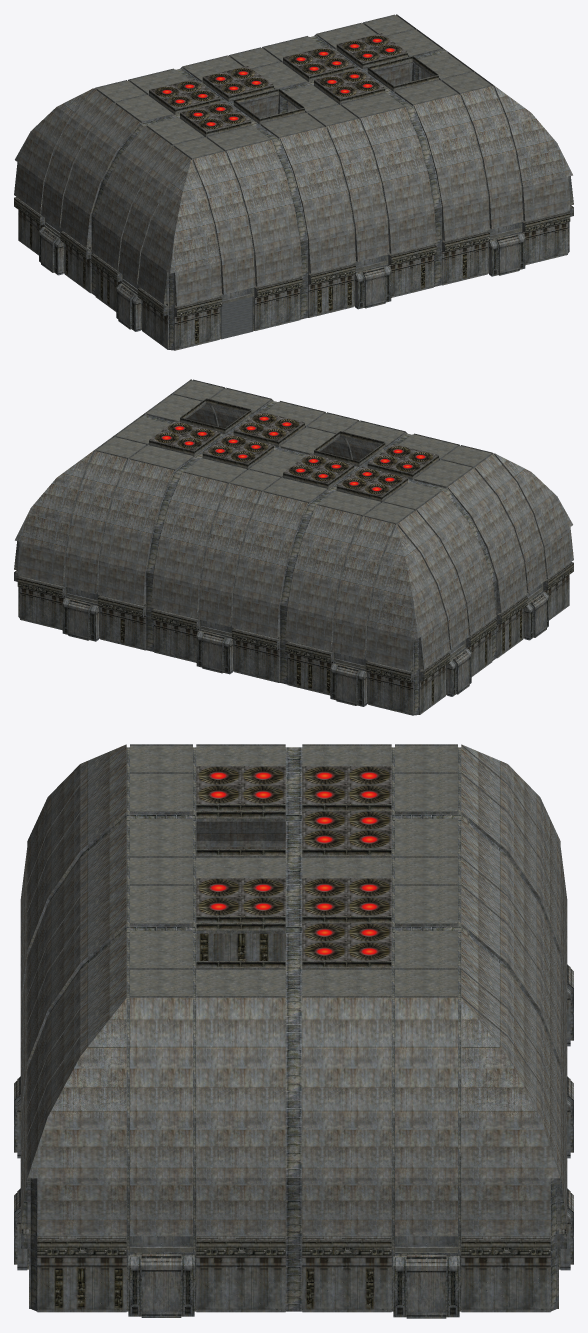
File: poi_all_impl_bunker_abandoned_s01_r32_lair_mesh.fbx
3 views of the same model, one above another, from view 1: azimuth 30°, elevation 25°; view 2: azimuth 150°, elevation 25°; view 3: azimuth 270°, elevation 25° (orthographic). The views are drawn at different scales.
Visible parts, largest first — view 1: mesh_node; view 2: mesh_node; view 3: mesh_node.
Boxes of the visible parts, x1,y1,x2,y2 form: mesh_node: (14,14,573,350); mesh_node: (14,379,573,715); mesh_node: (14,744,573,1318).
Size of the model in its own units: 49.8 by 18.7 by 33.8.
